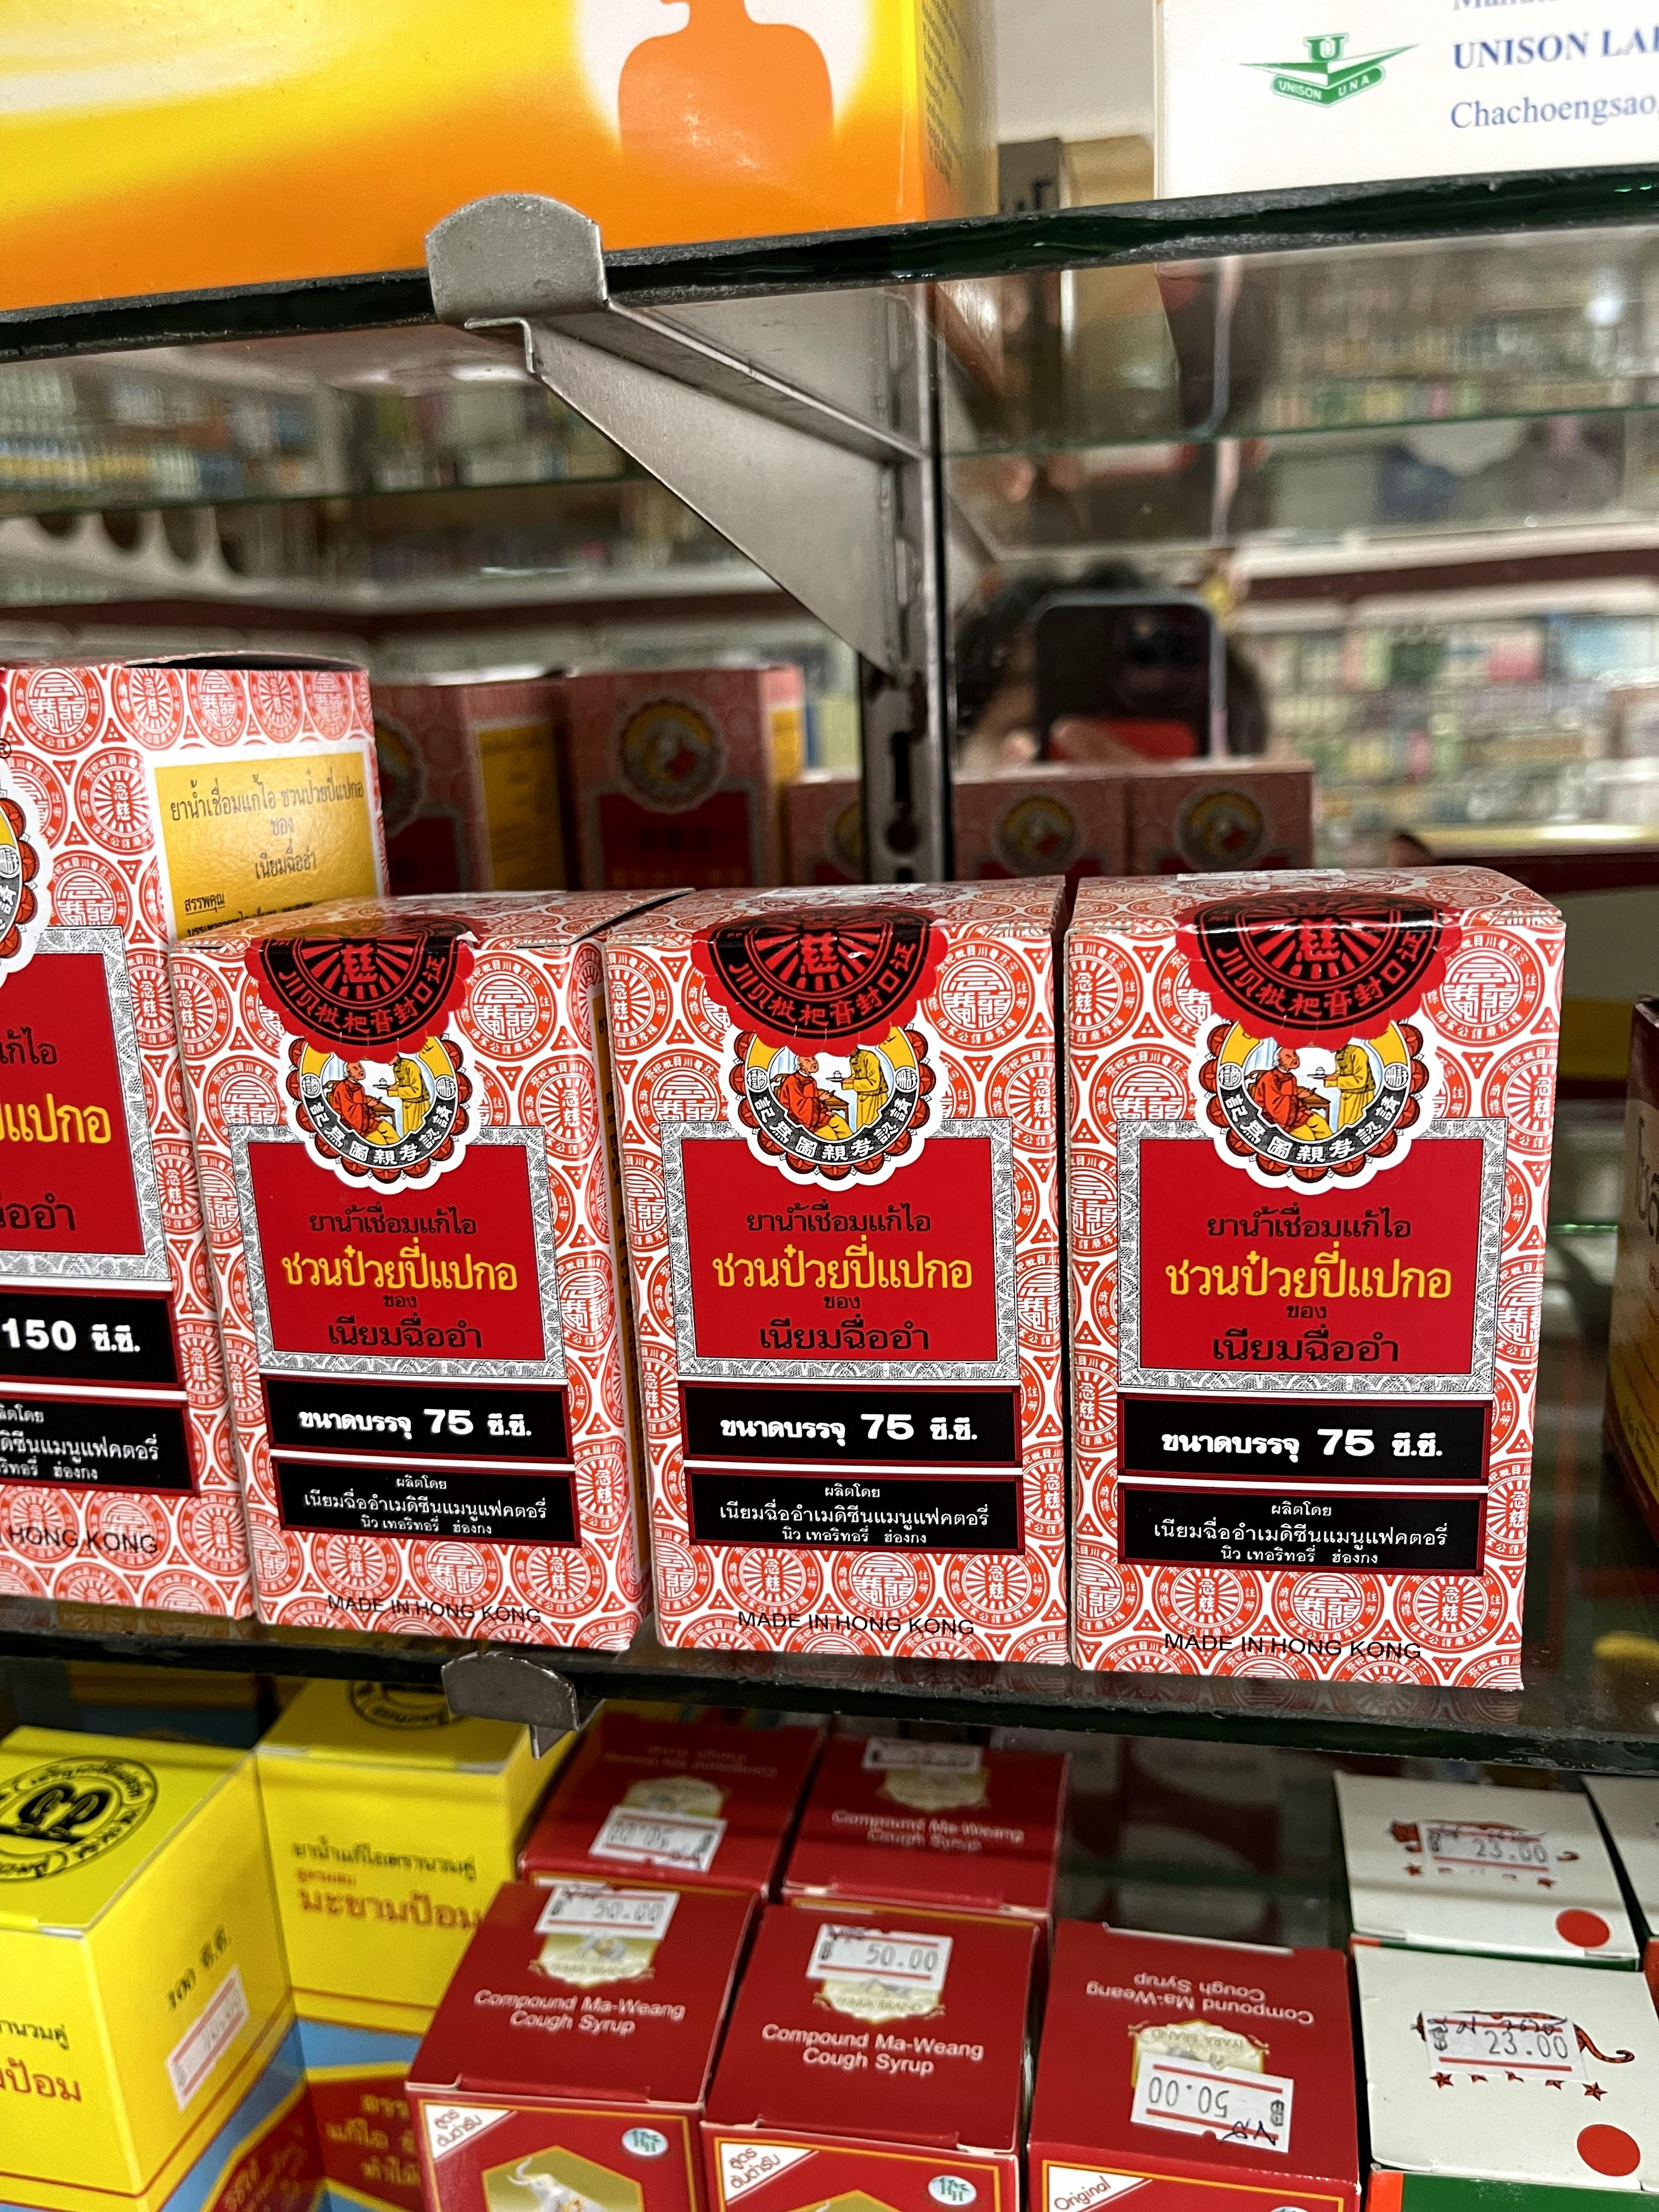Black-Tiger: (1349, 1928, 1659, 2212), (1337, 1775, 1635, 1961)
Iyara: (406, 1876, 741, 2212), (721, 1904, 1046, 2212), (1040, 1932, 1349, 2212), (784, 1717, 1075, 1926), (549, 1709, 809, 1916)
Ma-Kham-Pom: (0, 1728, 326, 2212), (261, 1698, 535, 2212)
Pei-Pa-Koa: (1065, 874, 1558, 1689), (183, 887, 660, 1632), (620, 881, 1061, 1669)
Pei-Pa-Koa_Big: (0, 643, 378, 1635)
